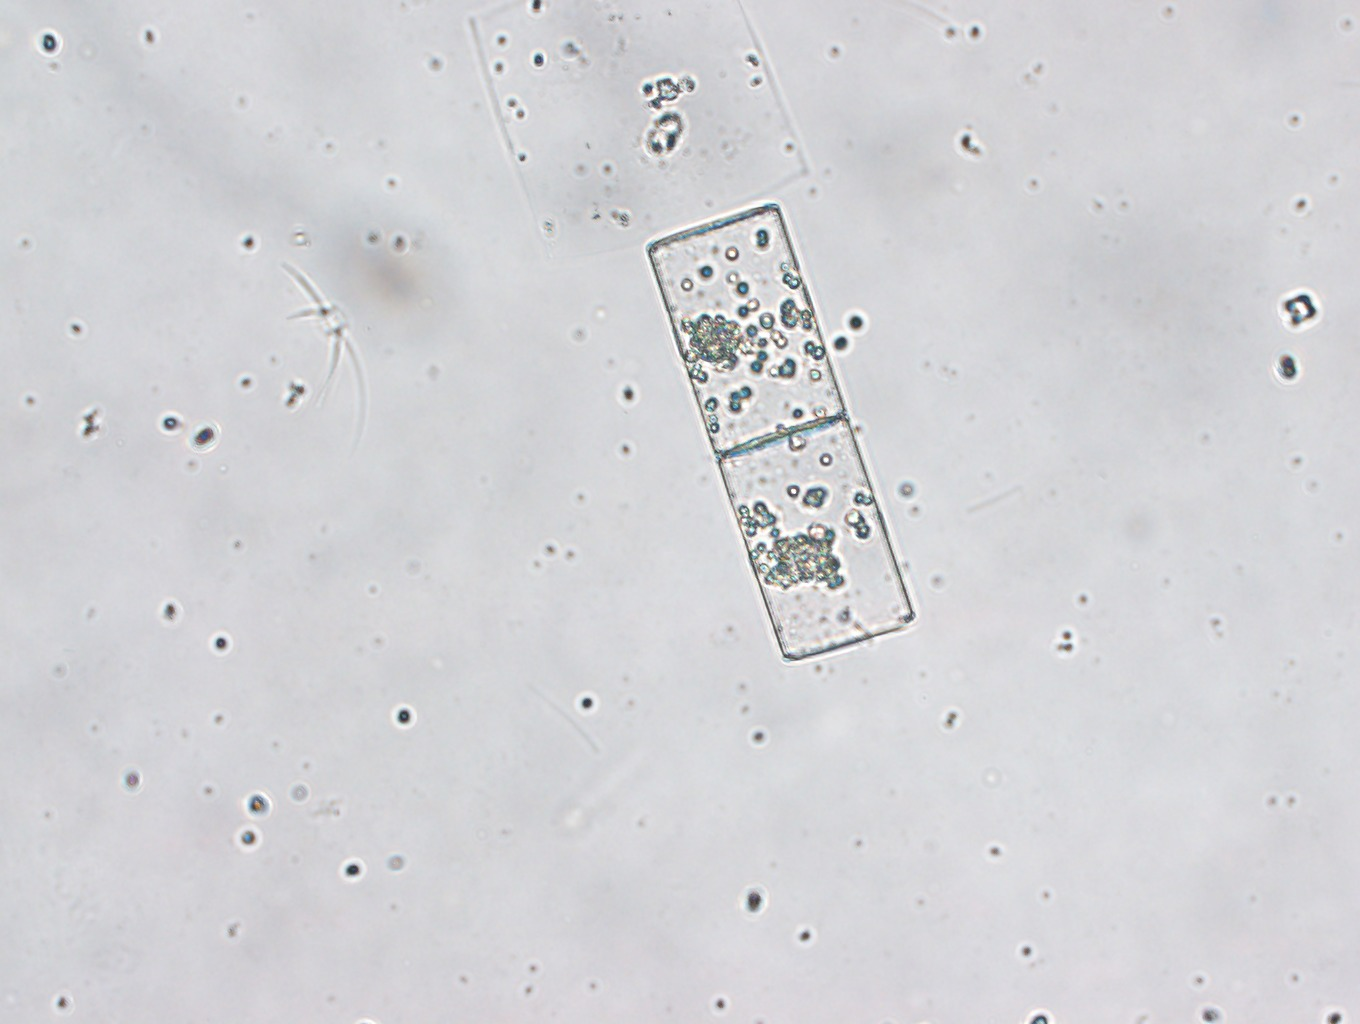chaetoceros: (273, 257, 366, 436)
guinardia flaccida: (645, 200, 917, 662), (466, 1, 805, 246)
